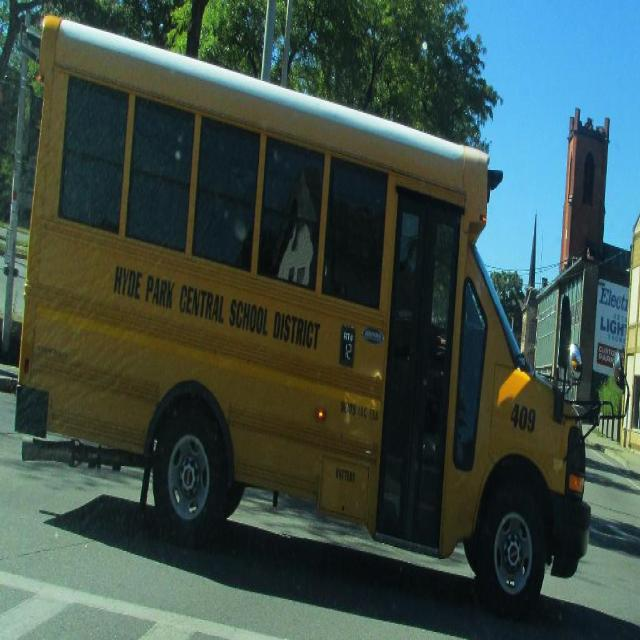Buses: (20, 7, 594, 620)
